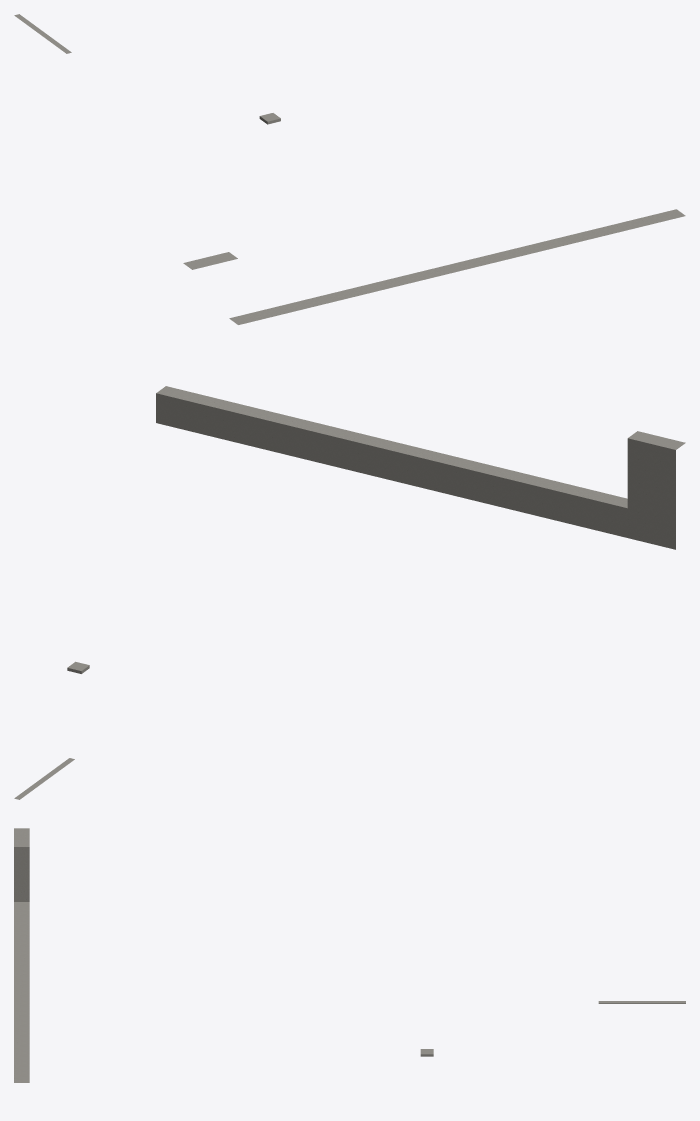
The model's file is kd_stage_135ded_1_2.glb.
The picture shows the model from 3 angles, top to bottom: view 1: azimuth 30°, elevation 25°; view 2: azimuth 150°, elevation 25°; view 3: azimuth 270°, elevation 25°; orthographic projection. The views are drawn at different scales.
Visible parts, largest first — view 1: kd_stage_135ded_1_2; view 2: kd_stage_135ded_1_2; view 3: kd_stage_135ded_1_2.
Boxes of the visible parts, x1,y1,x2,y2 form: kd_stage_135ded_1_2: [14, 14, 685, 324]; kd_stage_135ded_1_2: [14, 386, 685, 799]; kd_stage_135ded_1_2: [14, 828, 685, 1082].
Size of the model in its own units: 9.13 by 1.99 by 12.99.
1 material, 1 textured.
